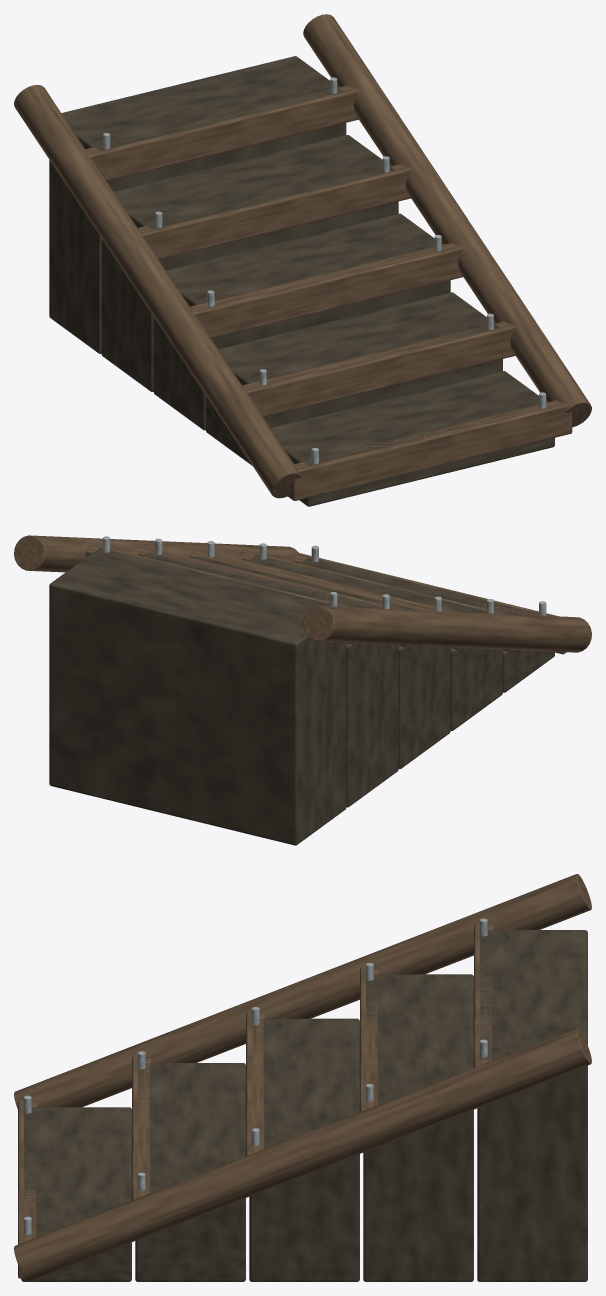
The model's file is GR_TrailStairs_03.glb.
3 views of the same model, one above another, from view 1: azimuth 30°, elevation 25°; view 2: azimuth 150°, elevation 25°; view 3: azimuth 270°, elevation 25° (orthographic). The views are drawn at different scales.
Visible parts, largest first — view 1: Static; view 2: Static; view 3: Static.
Part boxes in pixels (x1,y1,x2,y2): Static: (14, 14, 591, 506); Static: (14, 535, 591, 845); Static: (14, 874, 591, 1281).
Size of the model in its own units: 1.24 by 0.8939 by 1.77.
Materials: 1 (1 with a texture image).
